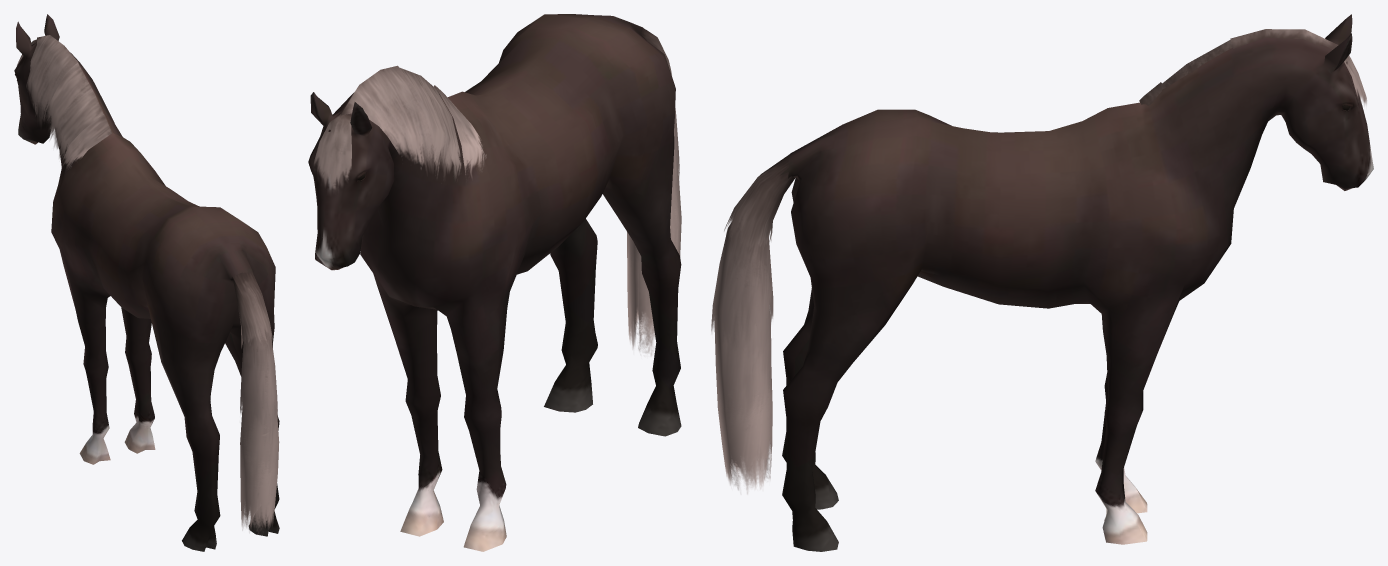
The model's file is horse_hi.glb.
3 views of the same model, side by side, from view 1: azimuth 30°, elevation 25°; view 2: azimuth 150°, elevation 25°; view 3: azimuth 270°, elevation 25° (orthographic). The views are drawn at different scales.
Parts seen in each view (by area): view 1: horse_hi; view 2: horse_hi; view 3: horse_hi.
Boxes of the visible parts, x1,y1,x2,y2 form: horse_hi: (14,14,279,551); horse_hi: (308,14,681,551); horse_hi: (711,14,1373,551).
Bounding box in the file's own units: 0.6524 × 2.1 × 2.53.
Materials: 3 (2 with a texture image).
